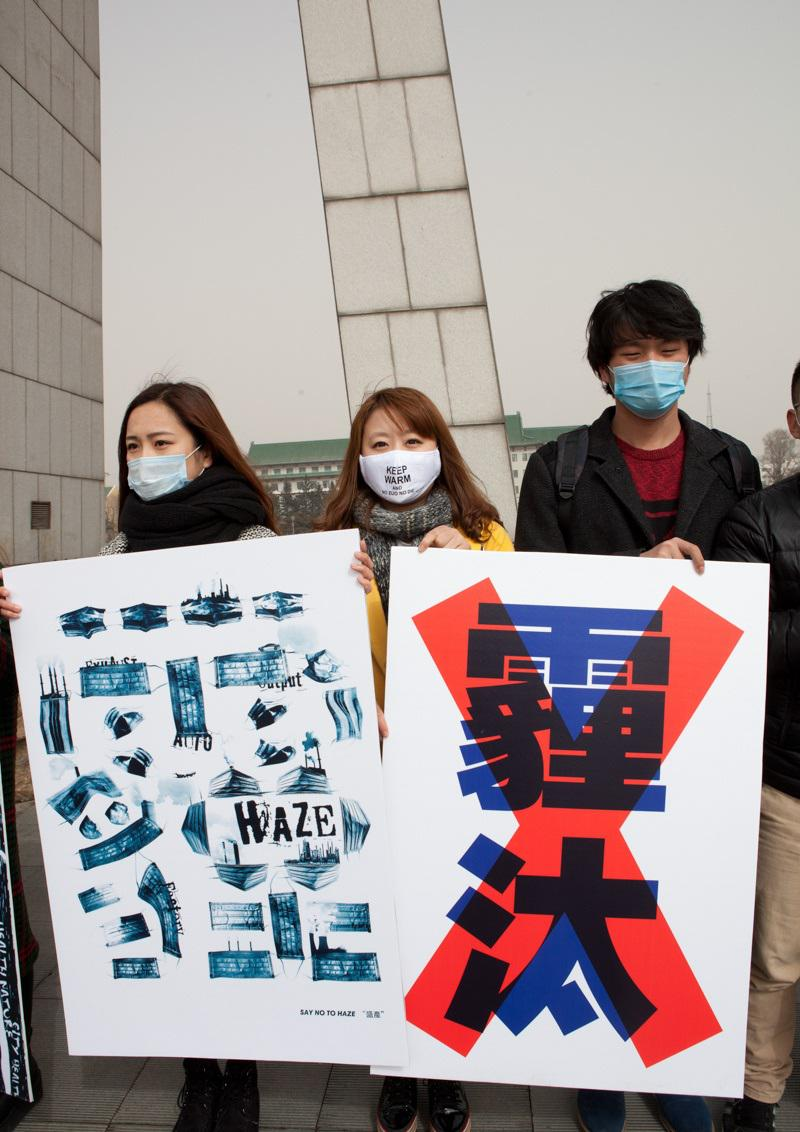OK: (610, 328, 687, 421), (361, 418, 441, 506), (126, 421, 192, 503)
